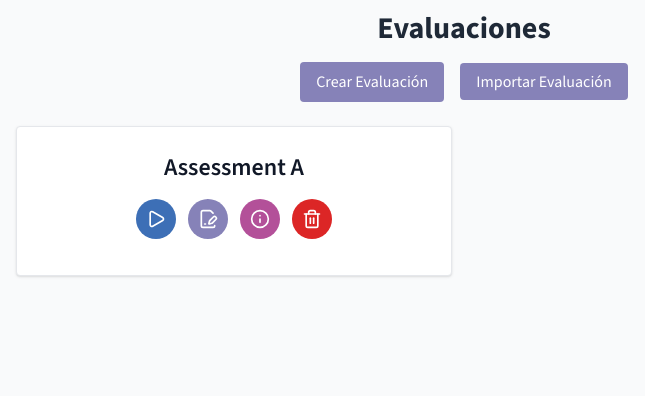
Test: Home page › shows delete confirmation and cancels it
Expected: the heading "Assessment A" is shown, [164, 151, 304, 183]
Click the button named "Borrar". click: (312, 219)
box: [292, 199, 332, 239]
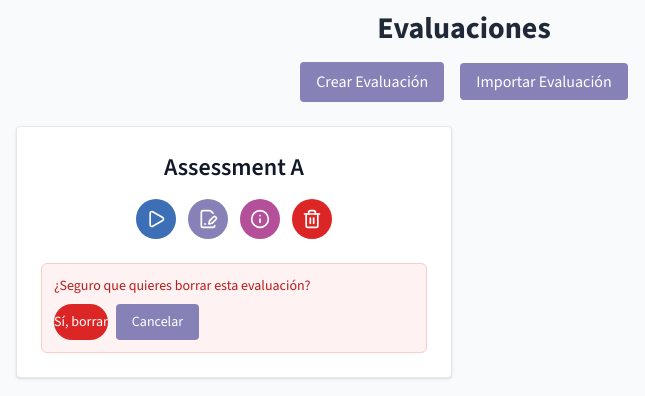
Now the text "¿Seguro que quieres borrar esta evaluación?" is shown, box [54, 276, 310, 295]
Click the button "Cancelar". click: (157, 322)
box: [116, 304, 199, 340]
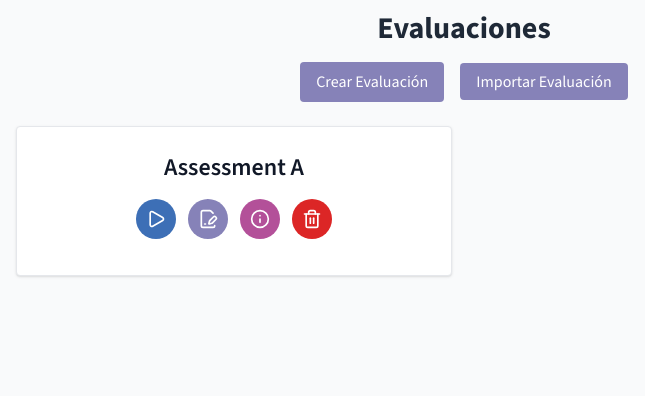
Now the text "¿Seguro que quieres borrar esta evaluación?" is gone
